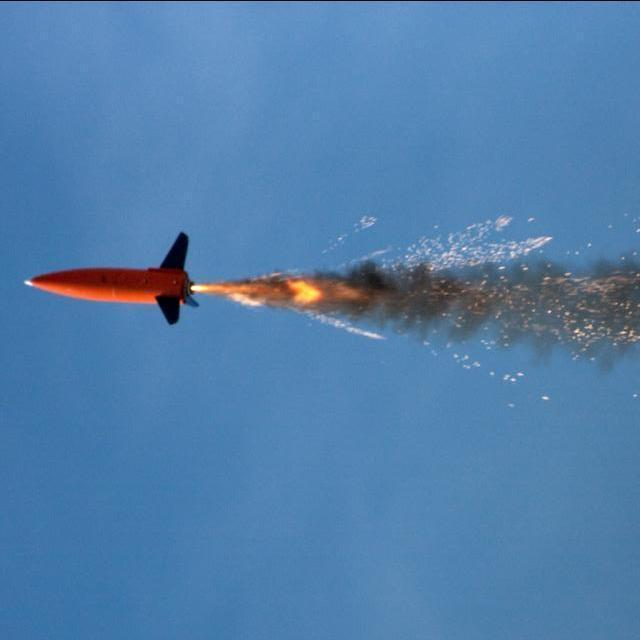missile: (23, 230, 199, 329)
